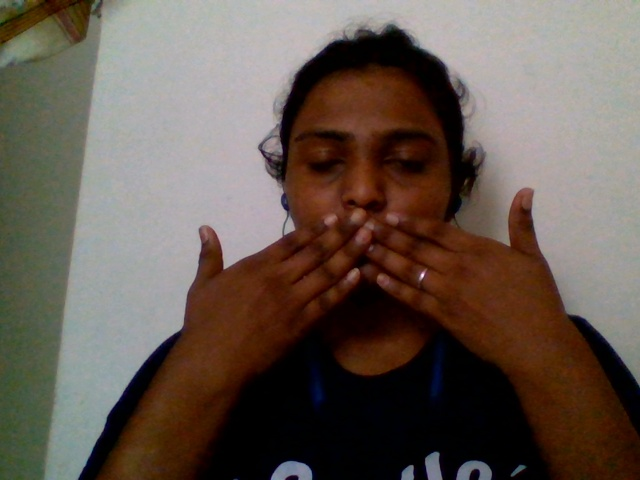Thanks: (140, 178, 612, 384)
